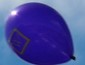Balloon: (4, 2, 74, 64)
